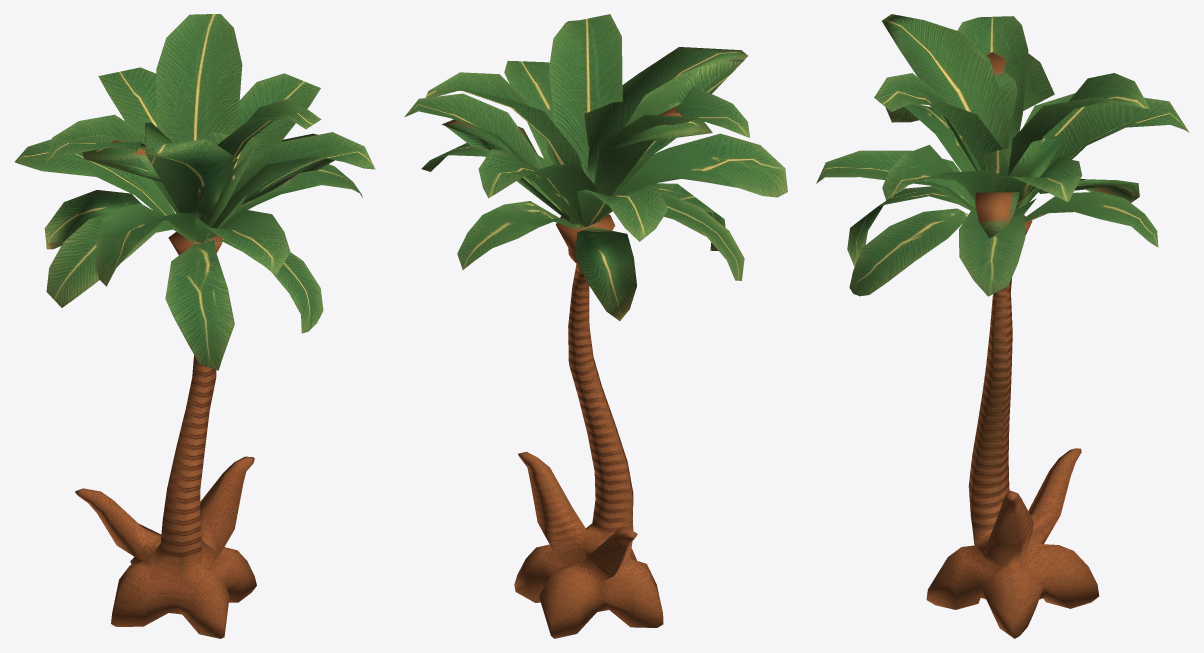
The model's file is desert-palm.glb.
3 renders of one model, left to right at view 1: azimuth 30°, elevation 25°; view 2: azimuth 150°, elevation 25°; view 3: azimuth 270°, elevation 25°, orthographic. The views are drawn at different scales.
Bounding box in the file's own units: 0.5844 × 0.9536 × 0.5801.
1 material, 1 textured.
